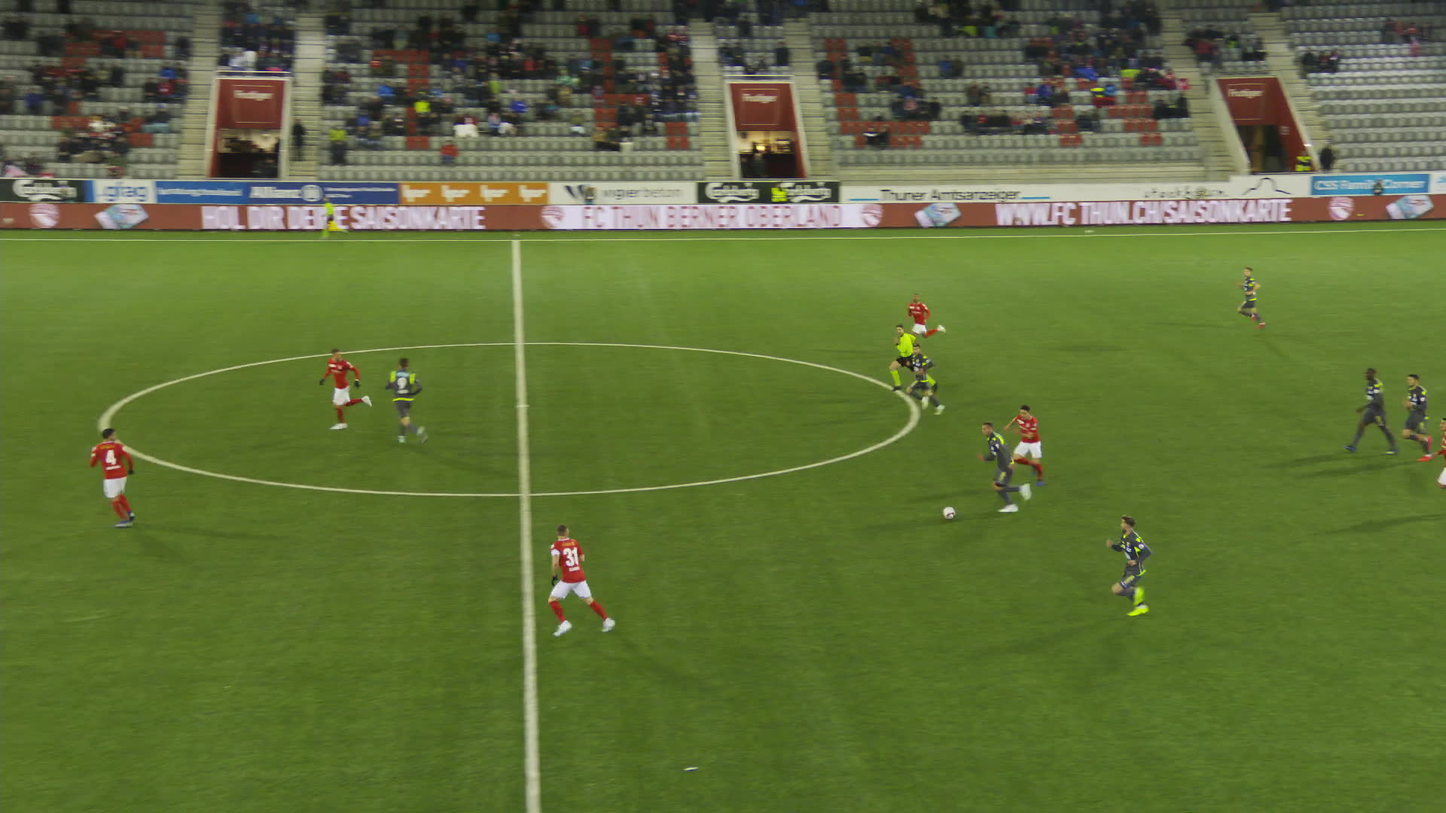ball: (943, 504, 959, 518)
player: (1097, 507, 1173, 617), (542, 522, 610, 640), (80, 423, 148, 530), (974, 419, 1046, 513), (1004, 397, 1063, 481), (313, 344, 368, 431), (1341, 364, 1391, 456), (378, 358, 419, 455), (899, 343, 950, 416), (1395, 370, 1435, 463), (1231, 263, 1268, 330), (903, 291, 934, 354), (1431, 416, 1445, 511)
referee: (888, 324, 932, 399), (312, 193, 343, 239)
